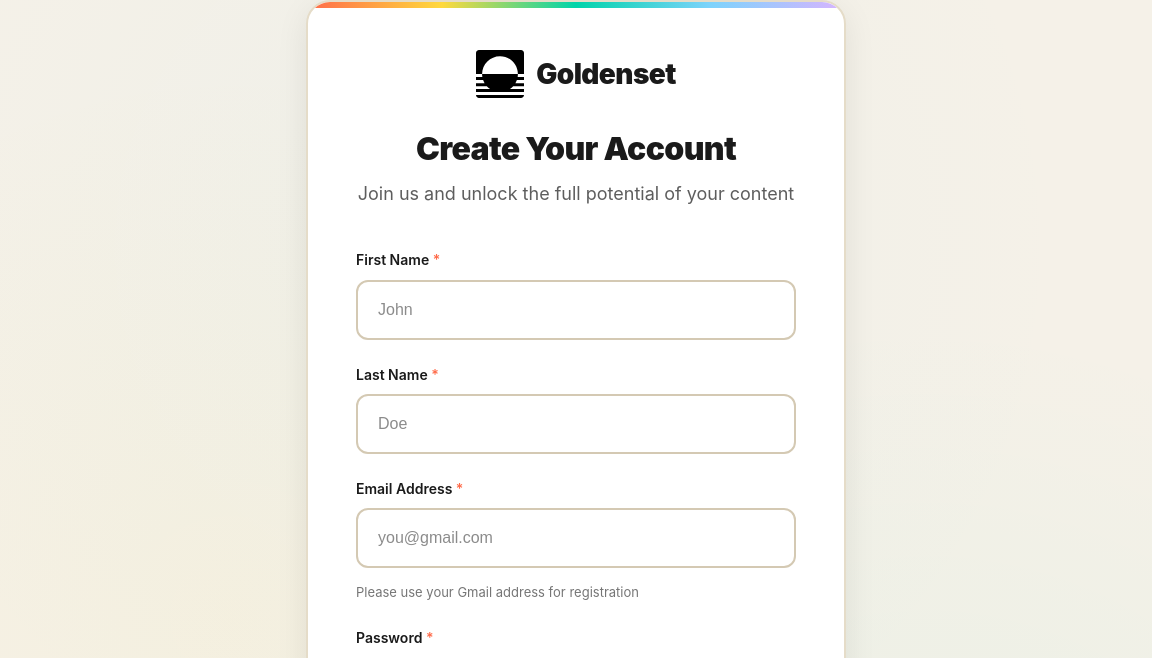
Test: RegistrationForm › should show validation error for non-Gmail address
Type "test@yahoo.com" into the field labelled "Email Address *". click: (576, 538)
box: [356,508,796,568]
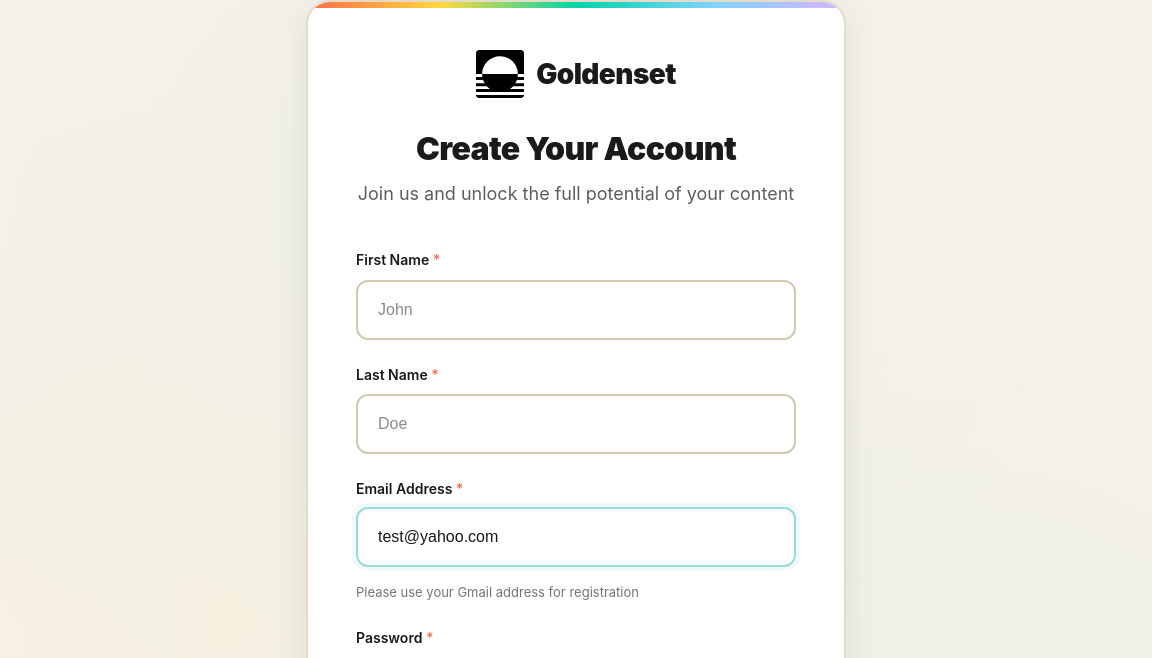
Leave the field labelled "Email Address *", box [356,507,796,567]
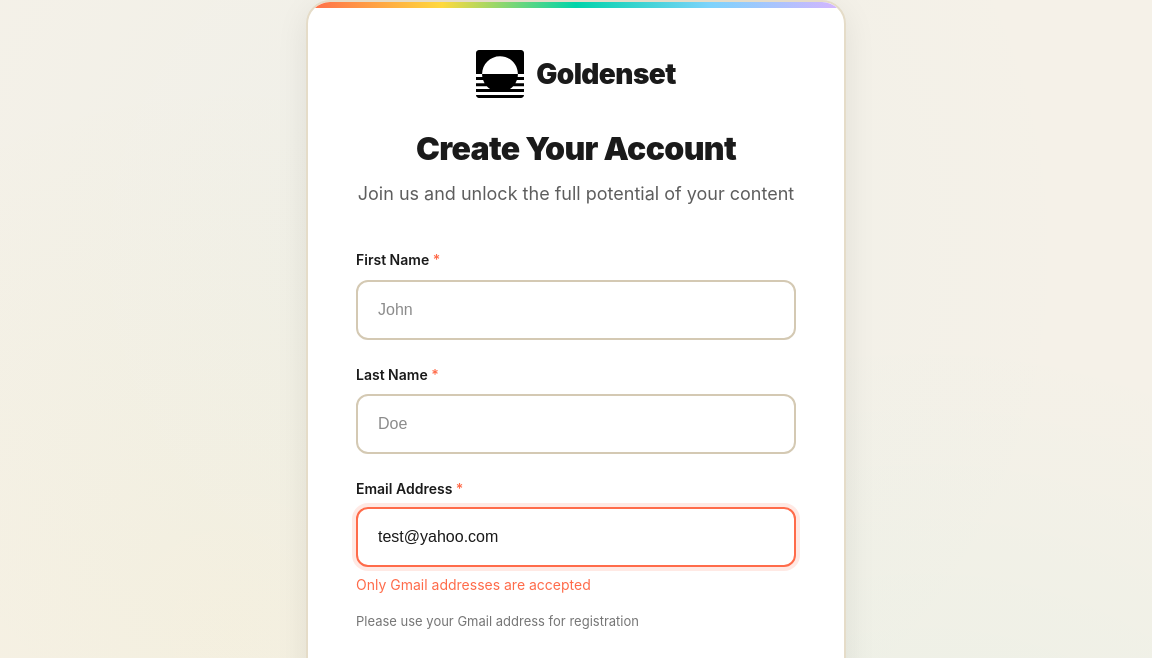
Expected: the text "Only Gmail addresses are accepted" is shown, [356,576,591,593]
